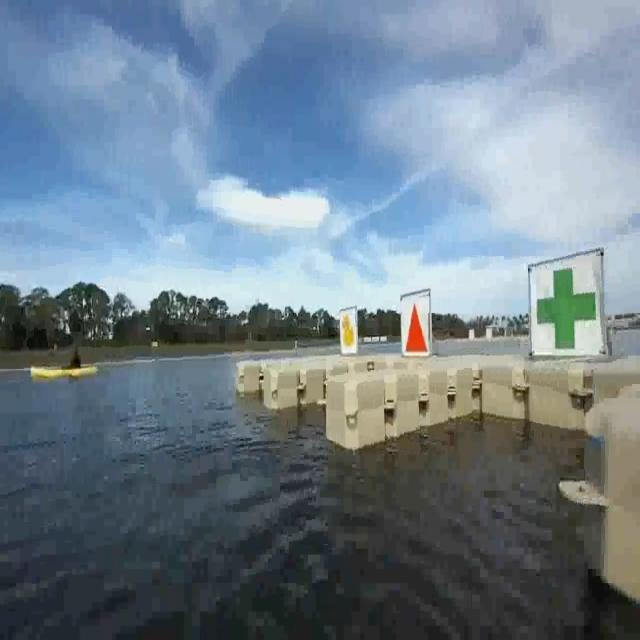blue-cross: (529, 254, 604, 358)
red-dot: (400, 294, 433, 359)
yellow-duck: (338, 313, 359, 357)
